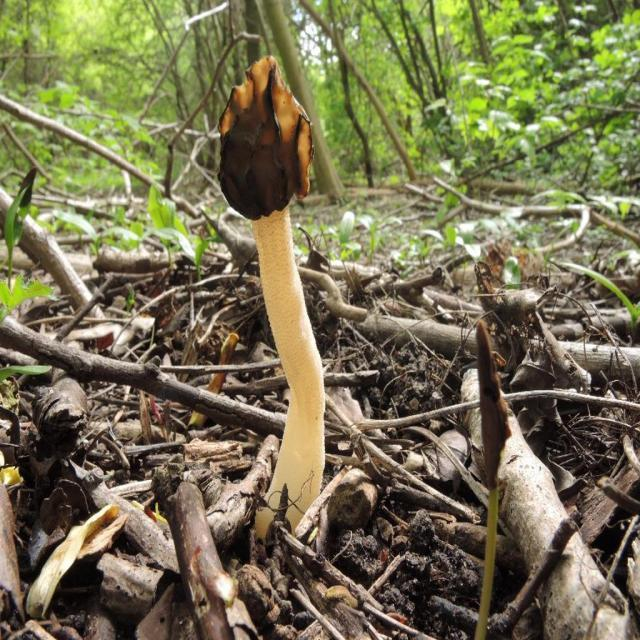Morchella esculenta: (216, 56, 325, 531)
